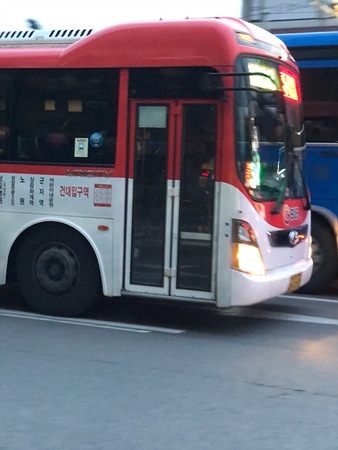entrance: (127, 92, 218, 303)
